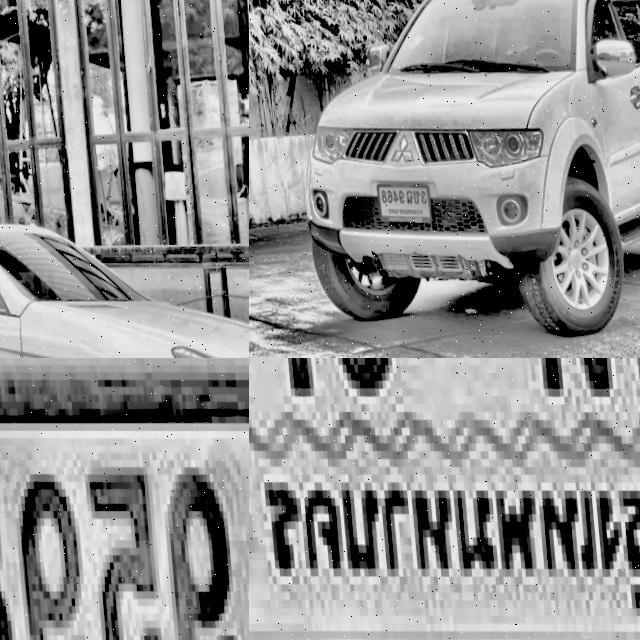license-plate: (249, 358, 640, 640), (0, 358, 249, 640), (374, 173, 431, 224)
